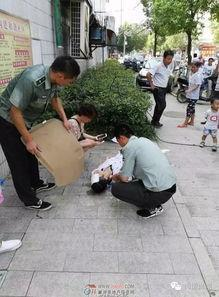Fall-Detected: (84, 140, 125, 194)
